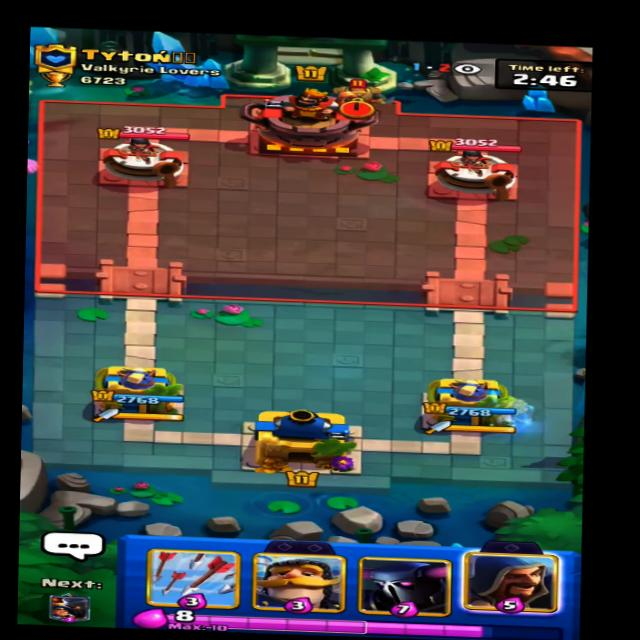knight: (320, 75, 409, 111)
